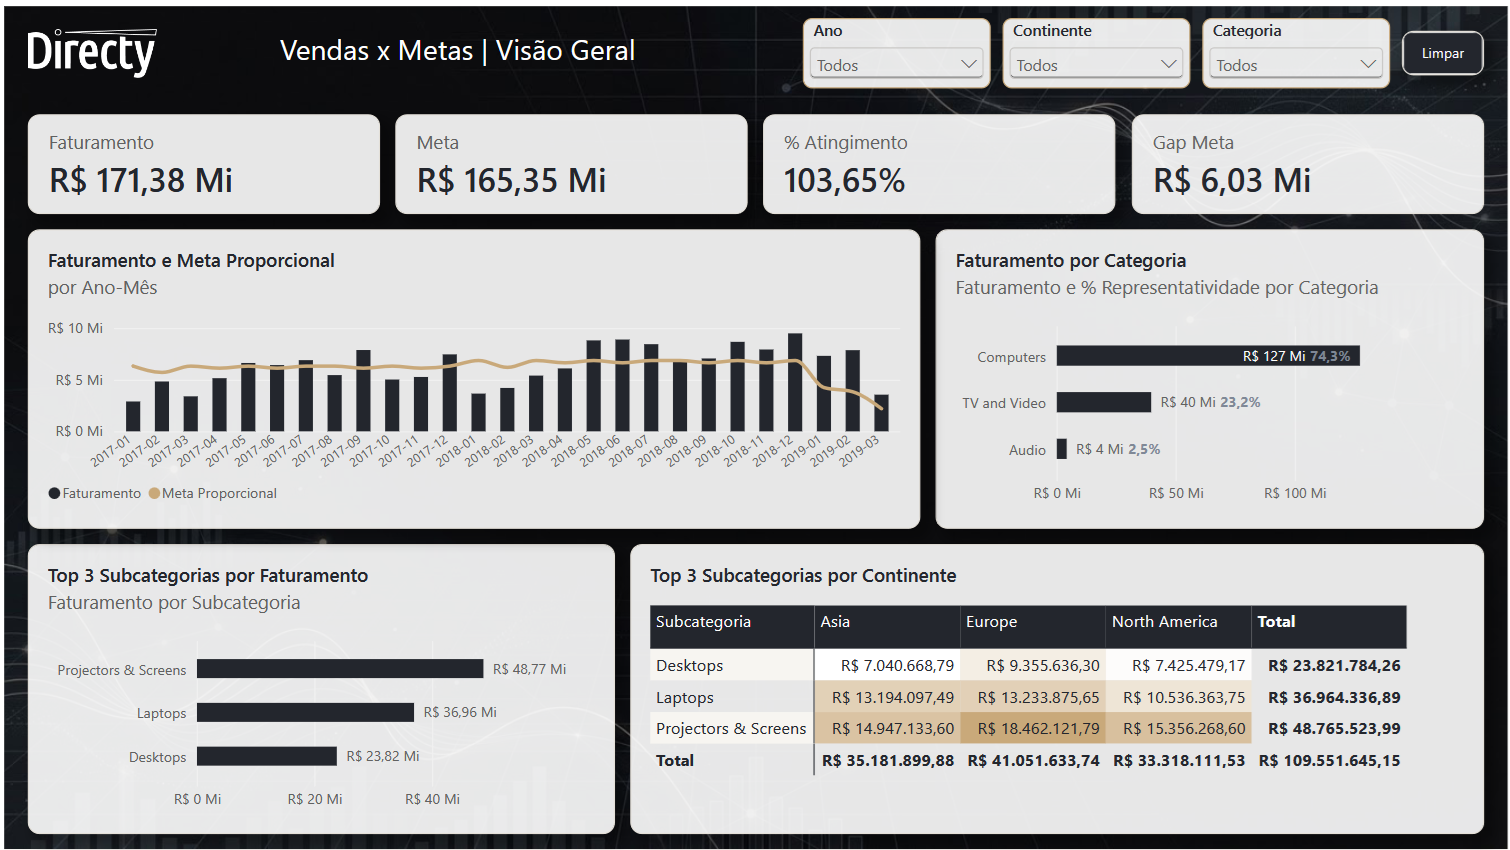

The dashboard page shown, as its layout file describes it:
{"tool":"powerbi","page":{"name":"Visão Geral","canvas":[1280,720],"ordinal":0},"visuals":[{"type":"slicer","fields":{"Values":["dCalendario.Ano"]},"box":[680,10,160,60],"z":1000},{"type":"textbox","box":[145.6,20,487.8,40],"z":2000},{"type":"slicer","fields":{"Values":["dContinente.Continente"]},"box":[850,10,160,60],"z":3000},{"type":"slicer","fields":{"Values":["dCategoria.Categoria"]},"box":[1020,10,160,60],"z":4000},{"type":"cardVisual","fields":{"Data":["_Medidas.Faturamento"]},"box":[20,92,300,85],"z":5000},{"type":"cardVisual","fields":{"Data":["_Medidas.Meta Proporcional"]},"box":[333,92,300,85],"z":6000},{"type":"cardVisual","fields":{"Data":["_Medidas.% Atingimento"]},"box":[646,92,300,85],"z":7000},{"type":"cardVisual","fields":{"Data":["_Medidas.Gap Meta"]},"box":[960,92,300,85],"z":8000},{"type":"clusteredBarChart","title":"Faturamento por Categoria","fields":{"Category":["dCategoria.Categoria"],"Y":["_Medidas.Faturamento"]},"box":[793,190,467,255],"z":9000},{"type":"clusteredBarChart","title":"Top 3 Subcategorias por Faturamento","fields":{"Category":["dProduto.Subcategoria"],"Y":["_Medidas.Faturamento"]},"box":[20,458,500,247],"z":10000},{"type":"image","box":[20,19,110,42],"z":11000},{"type":"lineClusteredColumnComboChart","fields":{"Category":["dCalendario.Ano-Mês"],"Y":["_Medidas.Faturamento"],"Y2":["_Medidas.Meta Proporcional"]},"box":[20,190,760,255],"z":12000},{"type":"pivotTable","title":"Top 3 Subcategorias por Continente","fields":{"Columns":["dContinente.Continente"],"Rows":["dProduto.Subcategoria"],"Values":["_Medidas.Faturamento"]},"box":[533,458,727,247],"z":13000},{"type":"actionButton","box":[1190,21,70,38],"z":14000}]}

Visuals, with their boxes in screenshot pixels (x1, y1, x2, y2), scaled from the page's 1280x720 canvas onto the 1510x850 screenshot:
slicer - dCalendario.Ano: box=[802, 12, 991, 83]
textbox: box=[172, 24, 747, 71]
slicer - dContinente.Continente: box=[1003, 12, 1191, 83]
slicer - dCategoria.Categoria: box=[1203, 12, 1392, 83]
cardVisual - _Medidas.Faturamento: box=[24, 109, 378, 209]
cardVisual - _Medidas.Meta Proporcional: box=[393, 109, 747, 209]
cardVisual - _Medidas.% Atingimento: box=[762, 109, 1116, 209]
cardVisual - _Medidas.Gap Meta: box=[1132, 109, 1486, 209]
"Faturamento por Categoria" clusteredBarChart: box=[935, 224, 1486, 525]
"Top 3 Subcategorias por Faturamento" clusteredBarChart: box=[24, 541, 613, 832]
image: box=[24, 22, 153, 72]
lineClusteredColumnComboChart - dCalendario.Ano-Mês x _Medidas.Faturamento: box=[24, 224, 920, 525]
"Top 3 Subcategorias por Continente" pivotTable: box=[629, 541, 1486, 832]
actionButton: box=[1404, 25, 1486, 70]
